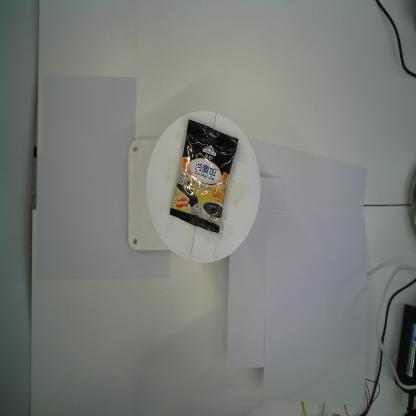Instant Drink: (169, 118, 239, 235)
